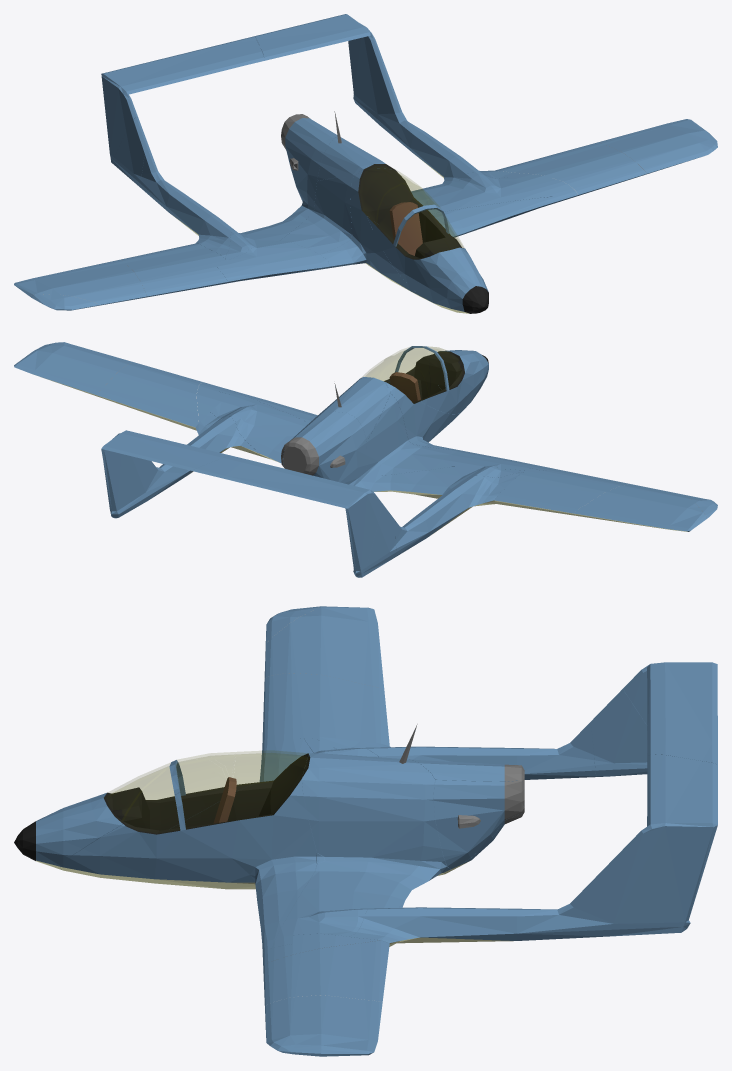
The model's file is aircraft_5_exploded.glb.
The picture shows the model from 3 angles, top to bottom: view 1: azimuth 30°, elevation 25°; view 2: azimuth 150°, elevation 25°; view 3: azimuth 270°, elevation 25°; orthographic projection. The views are drawn at different scales.
Parts seen in each view (by area): view 1: body_cell_cell.001, outer wing right_cell, body_cell.003, body_cell.006, outer wing left_cell, canopy_cell.004, canopy_cell, canopy_cell.001; view 2: body_cell_cell.001, body_cell.003, outer wing right_cell, outer wing left_cell, body_cell.006, canopy_cell, canopy_cell.004, canopy_cell.001; view 3: body_cell_cell.001, body_cell.006, outer wing right_cell, body_cell.003, outer wing left_cell, canopy_cell, canopy_cell.001, canopy_cell.004.
Boxes of the visible parts, bbox=[...] form: body_cell_cell.001: bbox=[225, 111, 555, 313]; outer wing right_cell: bbox=[14, 240, 329, 310]; body_cell.003: bbox=[101, 36, 264, 258]; body_cell.006: bbox=[254, 14, 508, 188]; outer wing left_cell: bbox=[495, 119, 717, 203]; canopy_cell.004: bbox=[379, 206, 463, 258]; canopy_cell: bbox=[360, 165, 419, 224]; canopy_cell.001: bbox=[379, 183, 437, 214]; body_cell_cell.001: bbox=[210, 346, 525, 498]; body_cell.003: bbox=[193, 456, 522, 577]; outer wing right_cell: bbox=[450, 449, 717, 531]; outer wing left_cell: bbox=[14, 342, 230, 430]; body_cell.006: bbox=[101, 412, 258, 518]; canopy_cell: bbox=[363, 356, 429, 403]; canopy_cell.004: bbox=[427, 346, 462, 396]; canopy_cell.001: bbox=[392, 347, 429, 392]; body_cell_cell.001: bbox=[14, 724, 524, 952]; body_cell.006: bbox=[350, 754, 717, 946]; outer wing right_cell: bbox=[259, 606, 389, 781]; body_cell.003: bbox=[311, 662, 717, 779]; outer wing left_cell: bbox=[262, 933, 389, 1056]; canopy_cell: bbox=[227, 751, 308, 821]; canopy_cell.001: bbox=[176, 752, 234, 828]; canopy_cell.004: bbox=[105, 758, 189, 832].
Size of the model in its own units: 13.53 by 2.28 by 9.02.
